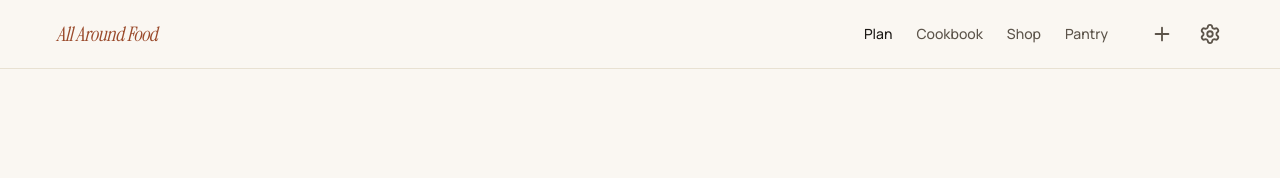
Test: AppHeader › renders the brand, status slot, Settings link, and add/import menu
What coordinates should you click on to do the following:
click the button named "Add or import a recipe"
I would click on:
 (1162, 34)
Its box is [1140,12,1184,56].
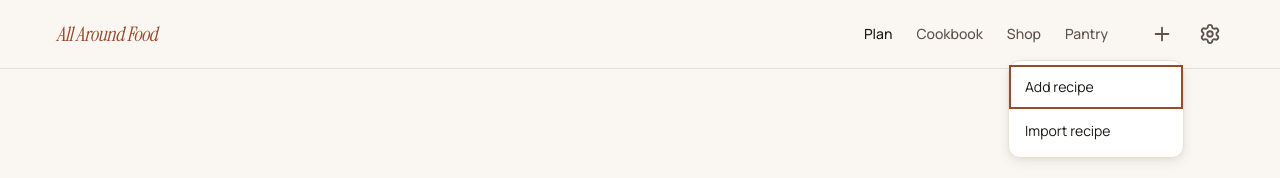
Now the menu item "Add recipe" is shown, box [1009,65,1183,109]
Now the menu item "Import recipe" is shown, box [1009,109,1183,153]
